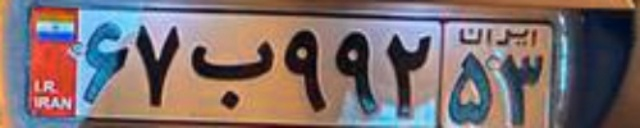2: (385, 32, 429, 118)
3: (494, 54, 546, 125)
5: (443, 51, 492, 124)
6: (80, 21, 130, 105)
7: (134, 22, 183, 108)
9: (333, 29, 378, 113), (282, 29, 327, 112)
be: (189, 39, 274, 110)
